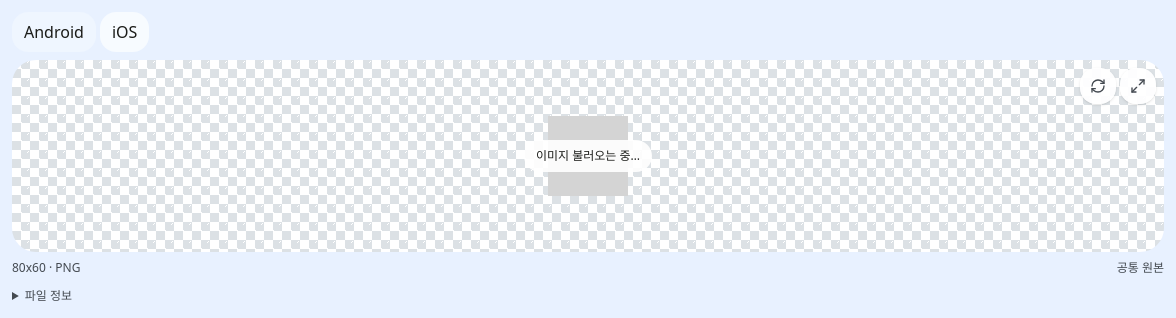
Test: admin asset inspector › does not substitute the common image for an unavailable dedicated variant
What coordinates should you click on to do the following:
click the button "iOS"
I would click on:
 (125, 32)
Its box is [100,12,149,52].
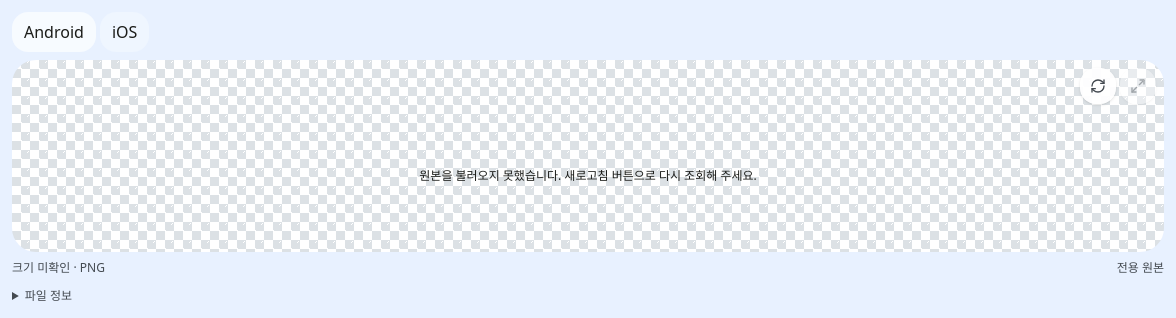
expect the picture is gone: met
expect the text "크기 미확인 · PNG" is shown: met, box [12,260,105,276]
